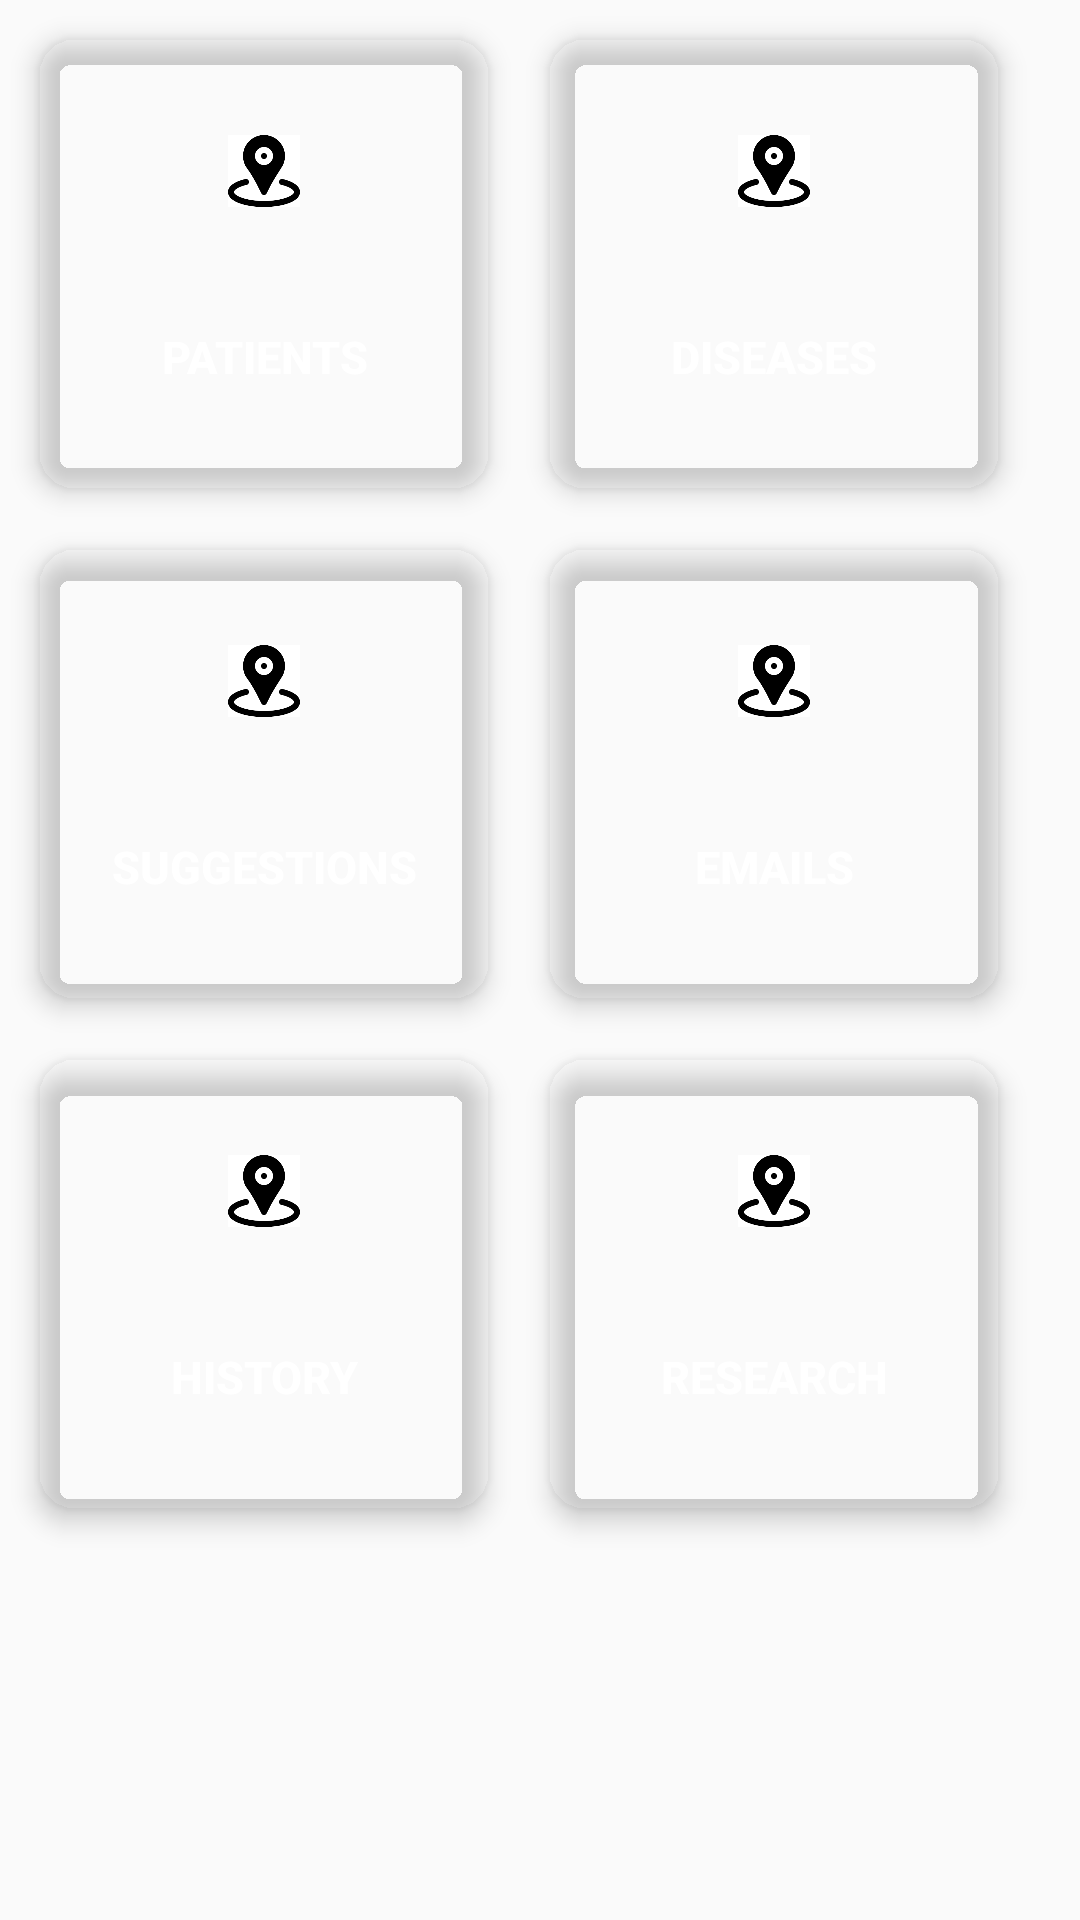

Point at icon controls on the screen. Image size 1080 x 1920, points as (x,y).
locatin: (264,171), (774,171), (264,681), (774,681), (264,1191), (774,1191)
